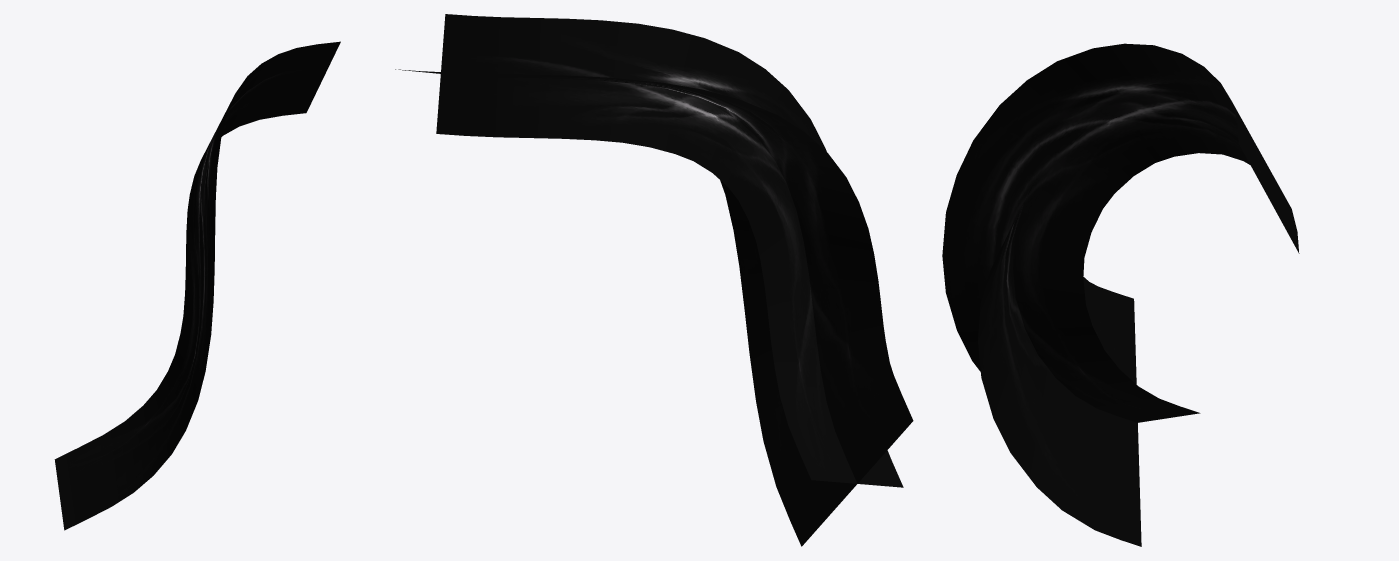
Rendered from regen_helix.FBX.
3 views of the same model, side by side, from view 1: azimuth 30°, elevation 25°; view 2: azimuth 150°, elevation 25°; view 3: azimuth 270°, elevation 25° (orthographic). The views are drawn at different scales.
Visible parts, largest first — view 1: Plane003; view 2: Plane003; view 3: Plane003.
Part boxes in pixels (<box>): Plane003: <box>54,41,340,530</box>; Plane003: <box>395,14,913,546</box>; Plane003: <box>942,43,1299,546</box>.
Bounding box in the file's own units: 9.32 × 10.39 × 6.88.
